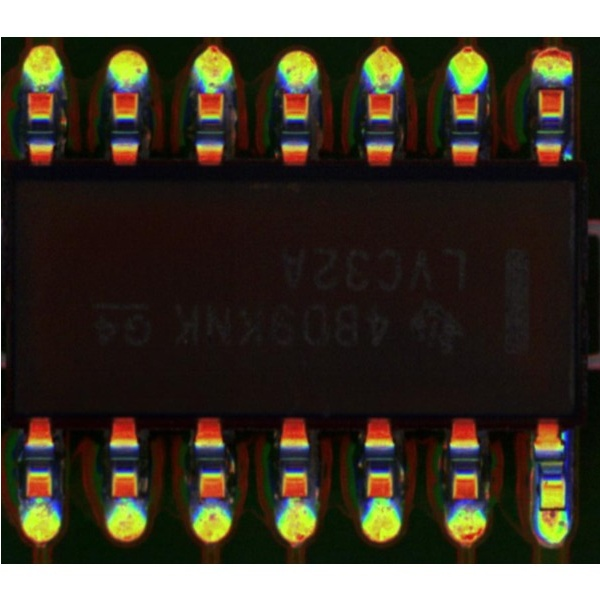Bad_podu: (541, 497, 561, 529)
